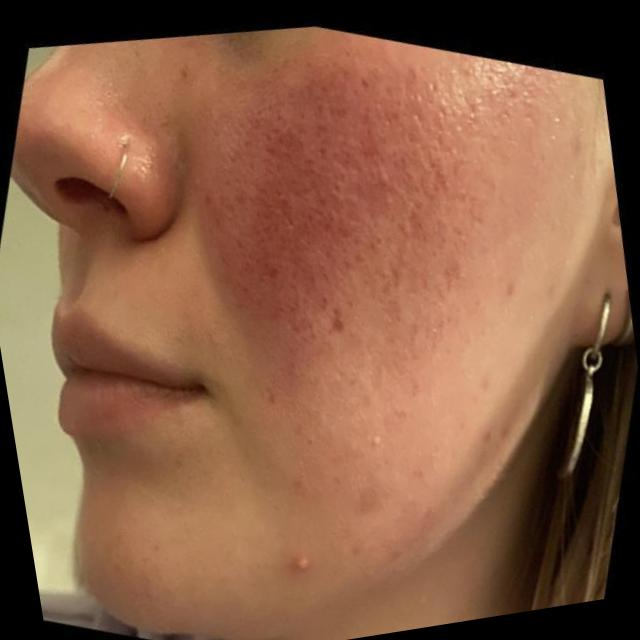redness: (194, 60, 472, 376)
